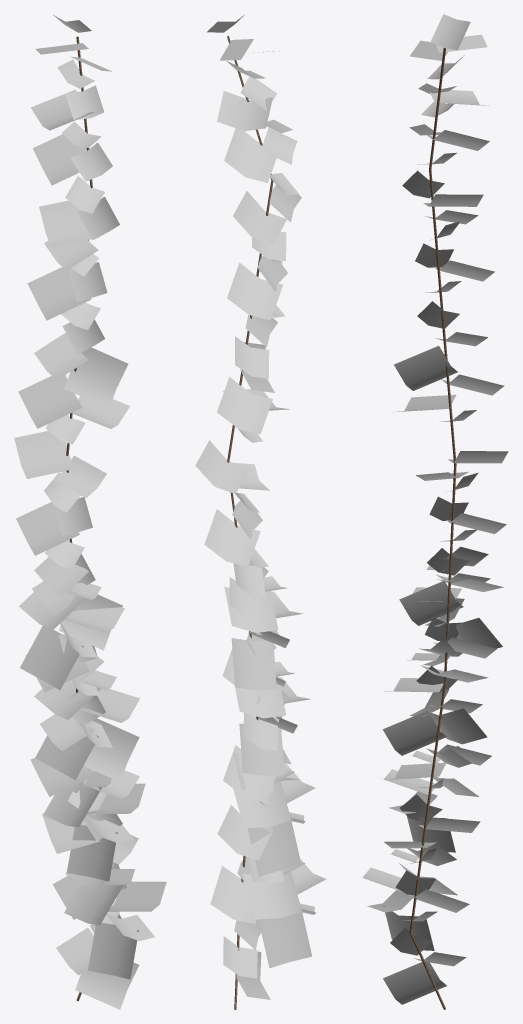
Rendered from long branch.FBX.
The picture shows the model from 3 angles, left to right: view 1: azimuth 90°, elevation 25°; view 2: azimuth 150°, elevation 25°; view 3: azimuth 270°, elevation 25°; orthographic projection.
Parts seen in each view (by area): view 1: Plane019; view 2: Plane019; view 3: Plane019.
Part boxes in pixels (x1,y1,x2,y2): Plane019: [14, 15, 166, 1009]; Plane019: [195, 15, 326, 1009]; Plane019: [362, 14, 508, 1009].
Size of the model in its own units: 4.03 by 48.07 by 6.73.
